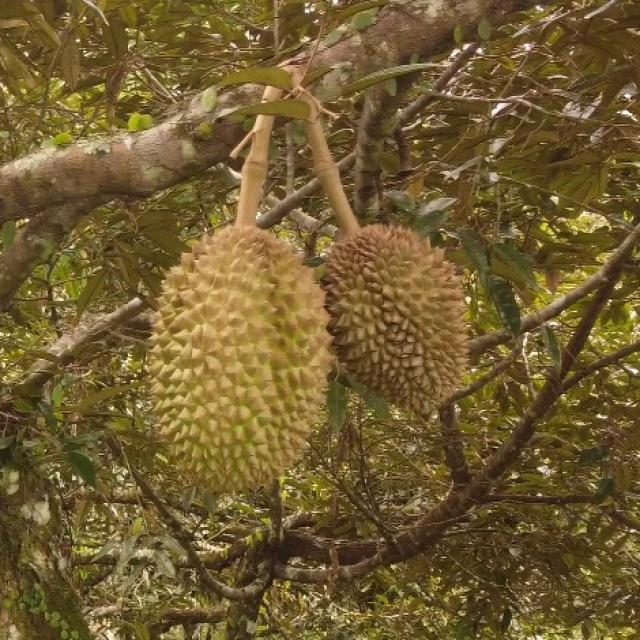mature: (145, 225, 331, 486), (319, 220, 469, 408)
